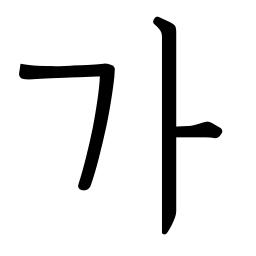Gaji: (144, 109, 201, 157)
